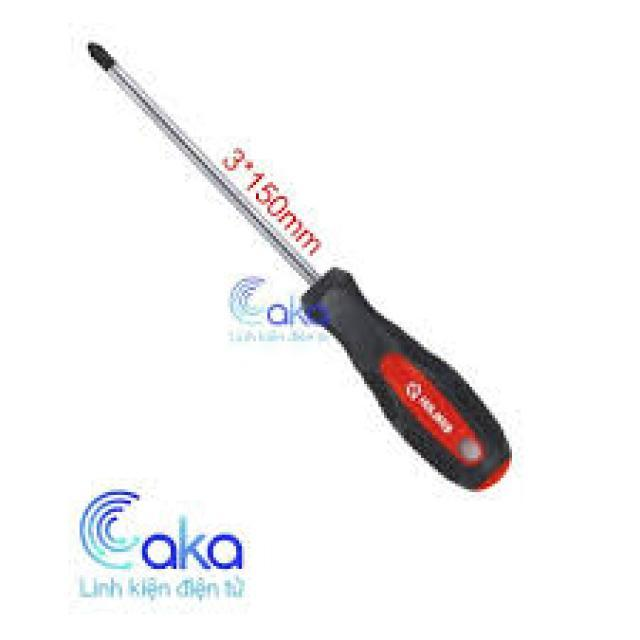screwdriver: (85, 37, 512, 492)
